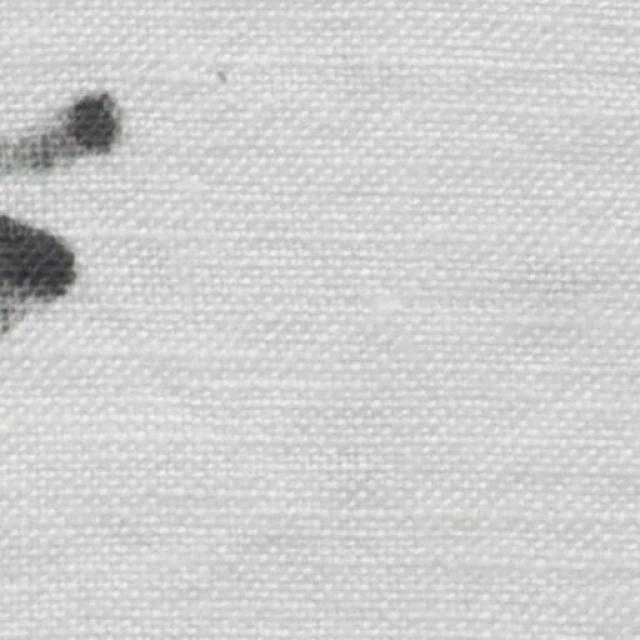Stain: (0, 101, 115, 176)
